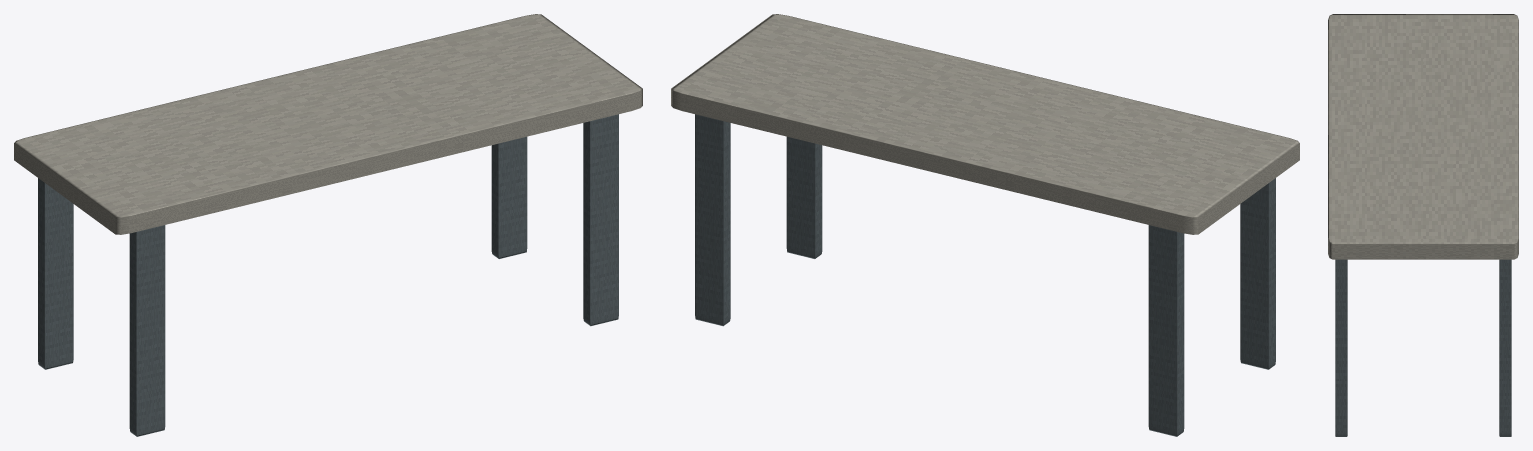
Rendered from folding-table.glb.
3 renders of one model, left to right at view 1: azimuth 30°, elevation 25°; view 2: azimuth 150°, elevation 25°; view 3: azimuth 270°, elevation 25°, orthographic. The views are drawn at different scales.
Visible parts, largest first — view 1: top, leg (×4); view 2: top, leg (×4); view 3: top, leg (×2).
Boxes of the visible parts, x1,y1,x2,y2 form: top: (14, 14, 642, 234); leg (×4): (38, 114, 618, 436); top: (671, 14, 1299, 234); leg (×4): (695, 114, 1275, 436); top: (1328, 14, 1518, 259); leg (×2): (1335, 259, 1511, 436).
Bounding box in the file's own units: 1.8 × 0.74 × 0.63.
Materials: 2 (2 with a texture image).
